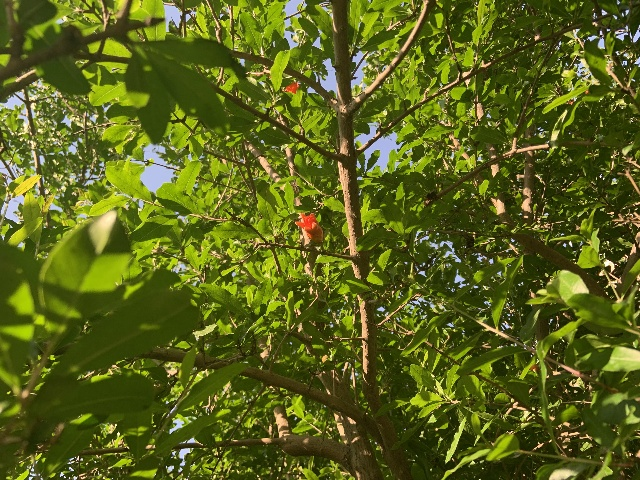flower: (294, 210, 323, 243), (283, 81, 299, 94)
